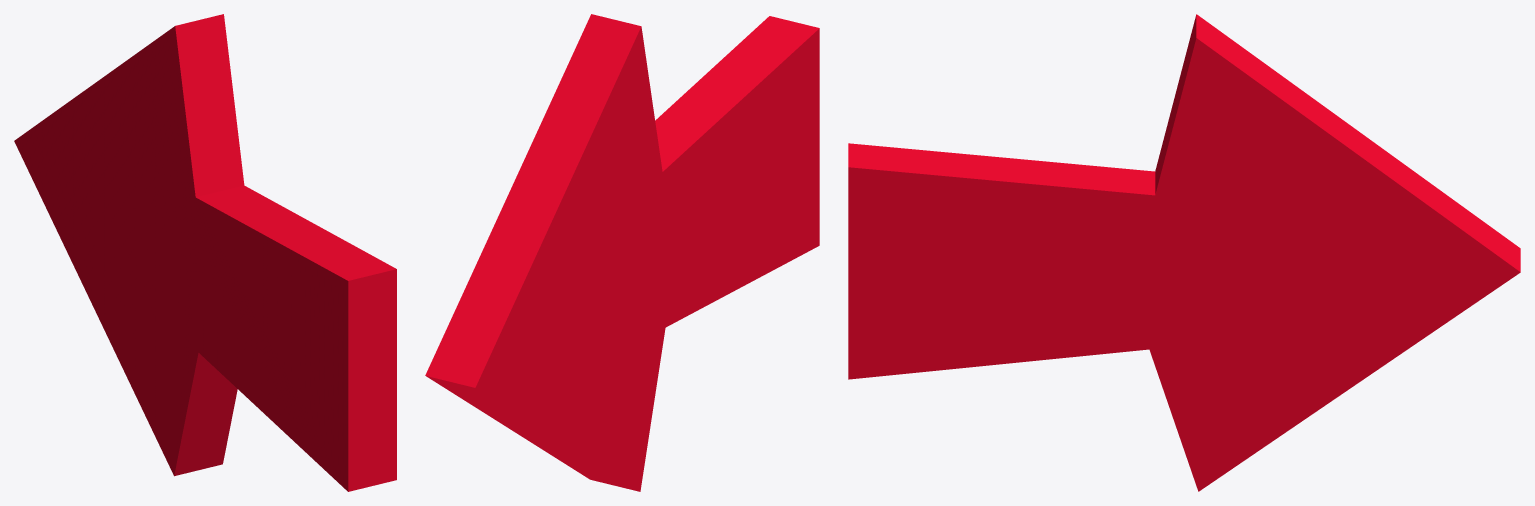
The model's file is Arrow.fbx.
3 renders of one model, left to right at view 1: azimuth 30°, elevation 25°; view 2: azimuth 150°, elevation 25°; view 3: azimuth 270°, elevation 25°, orthographic. The views are drawn at different scales.
Visible parts, largest first — view 1: pCube160; view 2: pCube160; view 3: pCube160.
Part boxes in pixels (x1=…): pCube160: x1=14, y1=14, x2=396, y2=491; pCube160: x1=425, y1=14, x2=819, y2=491; pCube160: x1=848, y1=14, x2=1520, y2=491.
Bounding box in the file's own units: 0.3348 × 2.96 × 3.98.
